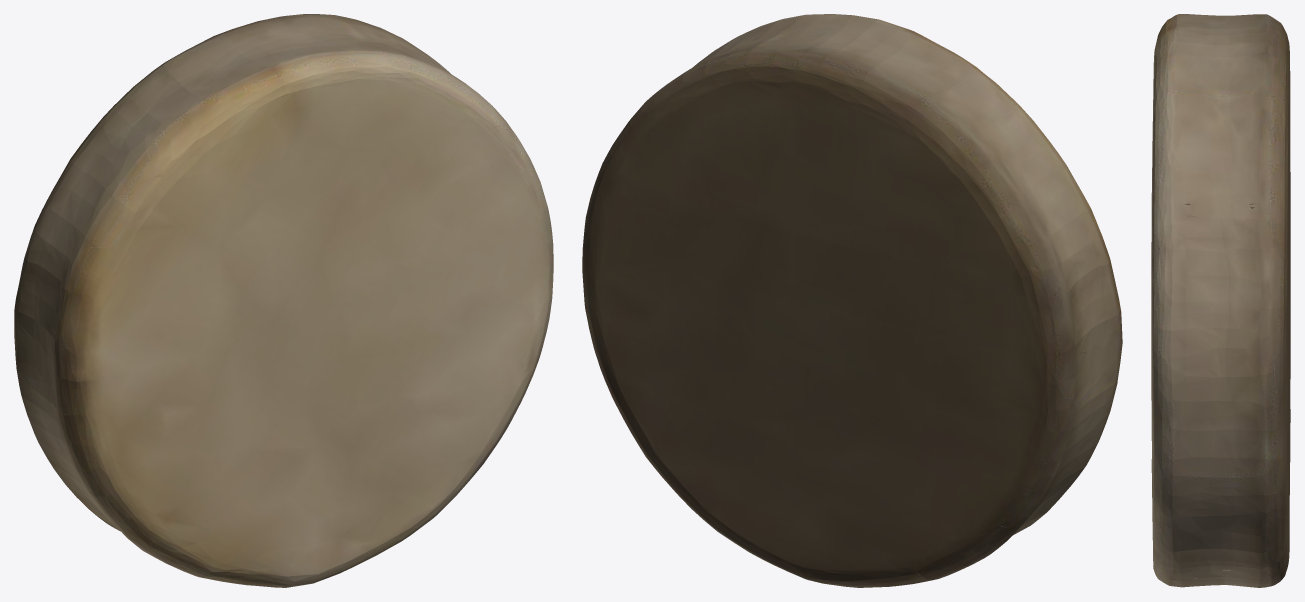
The model's file is round_woven_basket_hanging_from_ceiling_000.glb.
3 renders of one model, left to right at view 1: azimuth 30°, elevation 25°; view 2: azimuth 150°, elevation 25°; view 3: azimuth 270°, elevation 25°, orthographic.
Visible parts, largest first — view 1: phase2_final_round_woven_basket_hanging_from_ceiling_000.obj; view 2: phase2_final_round_woven_basket_hanging_from_ceiling_000.obj; view 3: phase2_final_round_woven_basket_hanging_from_ceiling_000.obj.
Part boxes in pixels (left/top/right/bottom): phase2_final_round_woven_basket_hanging_from_ceiling_000.obj: left=14, top=14, right=553, bottom=587; phase2_final_round_woven_basket_hanging_from_ceiling_000.obj: left=582, top=14, right=1122, bottom=587; phase2_final_round_woven_basket_hanging_from_ceiling_000.obj: left=1151, top=14, right=1290, bottom=587.
Bounding box in the file's own units: 0.2741 × 0.2802 × 0.068.
Materials: 1 (1 with a texture image).
